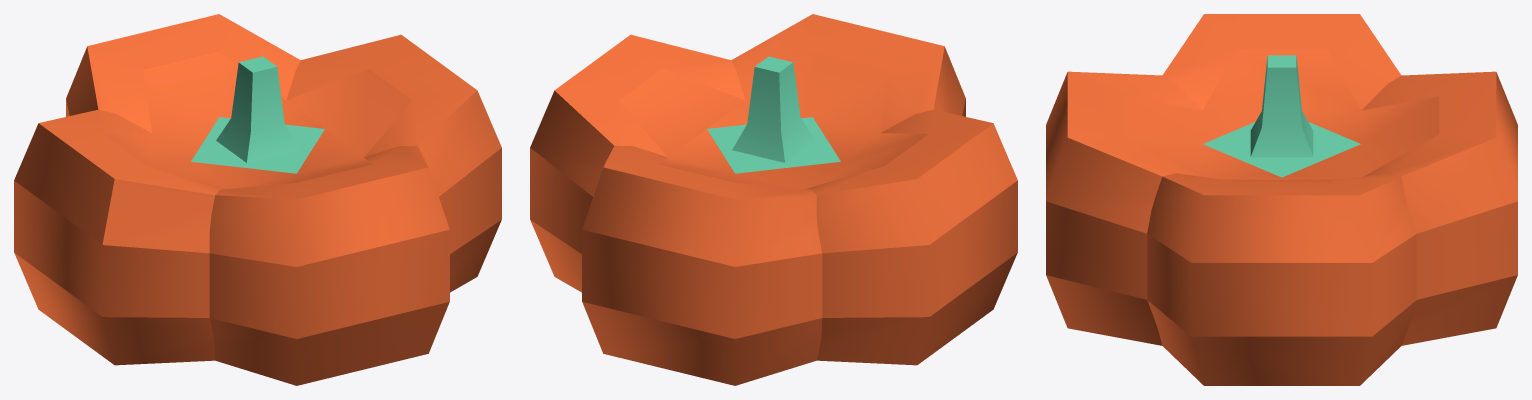
Rendered from Pumpkin.gltf.
3 renders of one model, left to right at view 1: azimuth 30°, elevation 25°; view 2: azimuth 150°, elevation 25°; view 3: azimuth 270°, elevation 25°, orthographic. The views are drawn at different scales.
Visible parts, largest first — view 1: pumpkin; view 2: pumpkin; view 3: pumpkin.
Part boxes in pixels (left/top/right/bottom): pumpkin: left=14, top=14, right=501, bottom=385; pumpkin: left=530, top=14, right=1017, bottom=385; pumpkin: left=1046, top=14, right=1517, bottom=385.
Size of the model in its own units: 0.4189 by 0.2291 by 0.4189.
